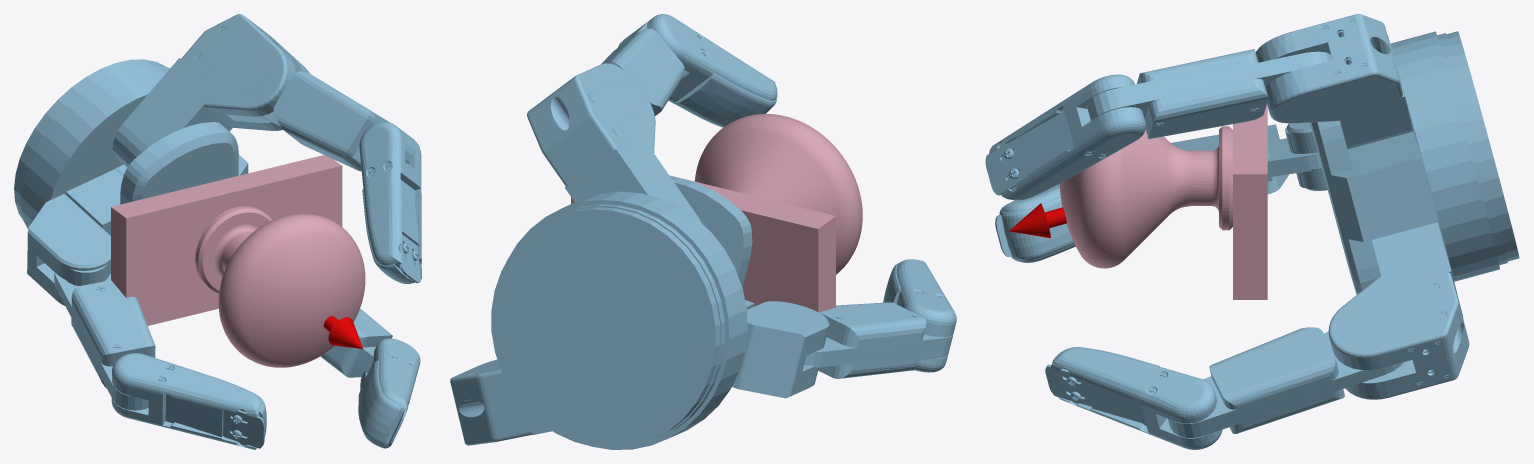
The picture shows the model from 3 angles, left to right: view 1: azimuth 30°, elevation 25°; view 2: azimuth 150°, elevation 25°; view 3: azimuth 270°, elevation 25°; orthographic projection. The views are drawn at different scales.
Parts seen in each view (by area): view 1: world, door_knob.stl; view 2: world, door_knob.stl; view 3: world, door_knob.stl.
Boxes of the visible parts, x1,y1,x2,y2 form: world: (14, 14, 421, 449); door_knob.stl: (111, 155, 365, 367); world: (450, 14, 956, 449); door_knob.stl: (571, 114, 862, 312); world: (985, 14, 1519, 449); door_knob.stl: (1059, 104, 1267, 299).
Size of the model in its own units: 0.1523 by 0.1555 by 0.1926.
